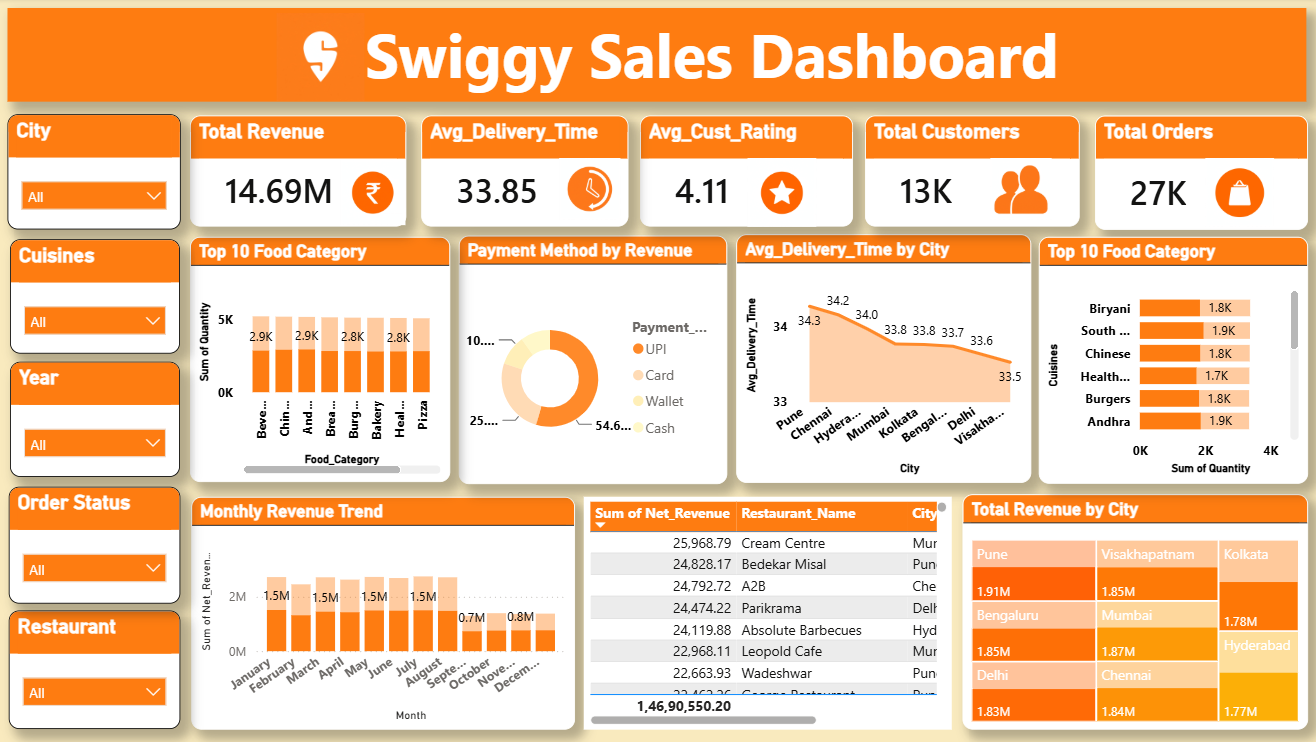

What the dashboard file says about the page in this screenshot:
{"tool":"powerbi","page":{"name":"Page 1","canvas":[1280,720],"ordinal":0},"visuals":[{"type":"clusteredColumnChart","title":"Monthly Revenue Trend","fields":{"Category":["swiggy_food_delivery_50000.Order_Date.Variation.Date Hierarchy.Month"],"Y":["Sum(swiggy_food_delivery_50000.Net_Revenue)"]},"box":[190,481.2,370,225],"z":0},{"type":"clusteredBarChart","fields":{"Category":["swiggy_food_delivery_50000.Cuisines"],"Y":["Sum(swiggy_food_delivery_50000.Order_Value)"]},"box":[1001.4,232.9,265.7,235.7],"z":1000},{"type":"donutChart","title":"Payment Method by Revenue","fields":{"Category":["swiggy_food_delivery_50000.Payment_Method"],"Y":["Sum(swiggy_food_delivery_50000.Net_Revenue)"]},"box":[438.6,228.6,261.4,240],"z":2000},{"type":"lineChart","title":"Avg_Delivery_Time  by City","fields":{"Category":["swiggy_food_delivery_50000.City"],"Y":["swiggy_food_delivery_50000.AVG_DEL_TIME"]},"box":[710,231.4,281.4,240],"z":3000},{"type":"columnChart","title":"Top 10 Food Category","fields":{"Category":["swiggy_food_delivery_50000.Food_Category"],"Y":["Sum(swiggy_food_delivery_50000.Quantity)"]},"box":[188.6,228.6,240,242.9],"z":4000},{"type":"treemap","title":"Total Revenue by City","fields":{"Group":["swiggy_food_delivery_50000.City"],"Values":["Sum(swiggy_food_delivery_50000.Net_Revenue)"]},"box":[933.8,478.8,333.8,227.5],"z":5000},{"type":"textbox","box":[12.5,10,1253.8,90],"z":6000},{"type":"cardVisual","title":"Total Revenue","fields":{"Data":["Sum(swiggy_food_delivery_50000.Net_Revenue)"]},"box":[188.6,112.9,208.6,107.1],"z":7000},{"type":"cardVisual","title":"Avg_Cust_Rating","fields":{"Data":["swiggy_food_delivery_50000.AVG_CUST_RATING"]},"box":[622.9,112.9,205.7,107.1],"z":8000},{"type":"cardVisual","title":"Total Customers","fields":{"Data":["swiggy_food_delivery_50000.Total Customers"]},"box":[840,112.9,207.1,107.1],"z":9000},{"type":"cardVisual","title":"Avg_Delivery_Time","fields":{"Data":["swiggy_food_delivery_50000.AVG_DEL_TIME"]},"box":[411.4,112.9,200,107.1],"z":10000},{"type":"slicer","title":"City","fields":{"Values":["swiggy_food_delivery_50000.City"]},"box":[12.5,112.5,167.5,111.2],"z":11000},{"type":"slicer","title":"Cuisines","fields":{"Values":["swiggy_food_delivery_50000.Cuisines"]},"box":[14.3,232.9,164.3,110],"z":12000},{"type":"slicer","title":"Year","fields":{"Values":["swiggy_food_delivery_50000.Delivery_Date.Variation.Date Hierarchy.Year","swiggy_food_delivery_50000.Delivery_Date.Variation.Date Hierarchy.Quarter","swiggy_food_delivery_50000.Delivery_Date.Variation.Date Hierarchy.Month","swiggy_food_delivery_50000.Delivery_Date.Variation.Date Hierarchy.Day"]},"box":[14.3,351.4,164.3,111.4],"z":13000},{"type":"slicer","title":"Restaurant","fields":{"Values":["swiggy_food_delivery_50000.Restaurant_Name"]},"box":[12.9,591.4,165.7,114.3],"z":14000},{"type":"tableEx","fields":{"Values":["Sum(swiggy_food_delivery_50000.Net_Revenue)","swiggy_food_delivery_50000.Restaurant_Name","swiggy_food_delivery_50000.City","swiggy_food_delivery_50000.Food_Category"]},"box":[568.8,481.2,355,225],"z":15000},{"type":"slicer","title":"Order Status","fields":{"Values":["swiggy_food_delivery_50000.Order_Status"]},"box":[12.9,471.4,165.7,112.9],"z":16000},{"type":"cardVisual","title":"Total Orders","fields":{"Data":["swiggy_food_delivery_50000.Total odrers"]},"box":[1061.4,112.9,205.7,110],"z":17000},{"type":"image","box":[1147.3,154.4,108.6,66.4],"z":18000},{"type":"image","box":[333.5,154.7,63.2,65.9],"z":19000},{"type":"image","box":[726.3,154.4,66.4,66.4],"z":20000},{"type":"image","box":[535.2,154.7,76.7,59.2],"z":21000},{"type":"image","box":[944.1,154.7,91.4,59.2],"z":22000},{"type":"image","box":[262.5,15,102.5,85],"z":23000}]}

Visuals, with their boxes in screenshot pixels (x1, y1, x2, y2), scaled from the page's 1280x720 canvas onto the 1316x742 screenshot:
"Monthly Revenue Trend" clusteredColumnChart: rect(195, 496, 576, 728)
clusteredBarChart - swiggy_food_delivery_50000.Cuisines x Sum(swiggy_food_delivery_50000.Order_Value): rect(1030, 240, 1303, 483)
"Payment Method by Revenue" donutChart: rect(451, 236, 720, 483)
"Avg_Delivery_Time  by City" lineChart: rect(730, 238, 1019, 486)
"Top 10 Food Category" columnChart: rect(194, 236, 441, 486)
"Total Revenue by City" treemap: rect(960, 493, 1303, 728)
textbox: rect(13, 10, 1302, 103)
"Total Revenue" cardVisual: rect(194, 116, 408, 227)
"Avg_Cust_Rating" cardVisual: rect(640, 116, 852, 227)
"Total Customers" cardVisual: rect(864, 116, 1077, 227)
"Avg_Delivery_Time" cardVisual: rect(423, 116, 629, 227)
"City" slicer: rect(13, 116, 185, 231)
"Cuisines" slicer: rect(15, 240, 184, 353)
"Year" slicer: rect(15, 362, 184, 477)
"Restaurant" slicer: rect(13, 609, 184, 727)
tableEx - Sum(swiggy_food_delivery_50000.Net_Revenue) x swiggy_food_delivery_50000.Restaurant_Name: rect(585, 496, 950, 728)
"Order Status" slicer: rect(13, 486, 184, 602)
"Total Orders" cardVisual: rect(1091, 116, 1303, 230)
image: rect(1180, 159, 1291, 228)
image: rect(343, 159, 408, 227)
image: rect(747, 159, 815, 228)
image: rect(550, 159, 629, 220)
image: rect(971, 159, 1065, 220)
image: rect(270, 15, 375, 103)
